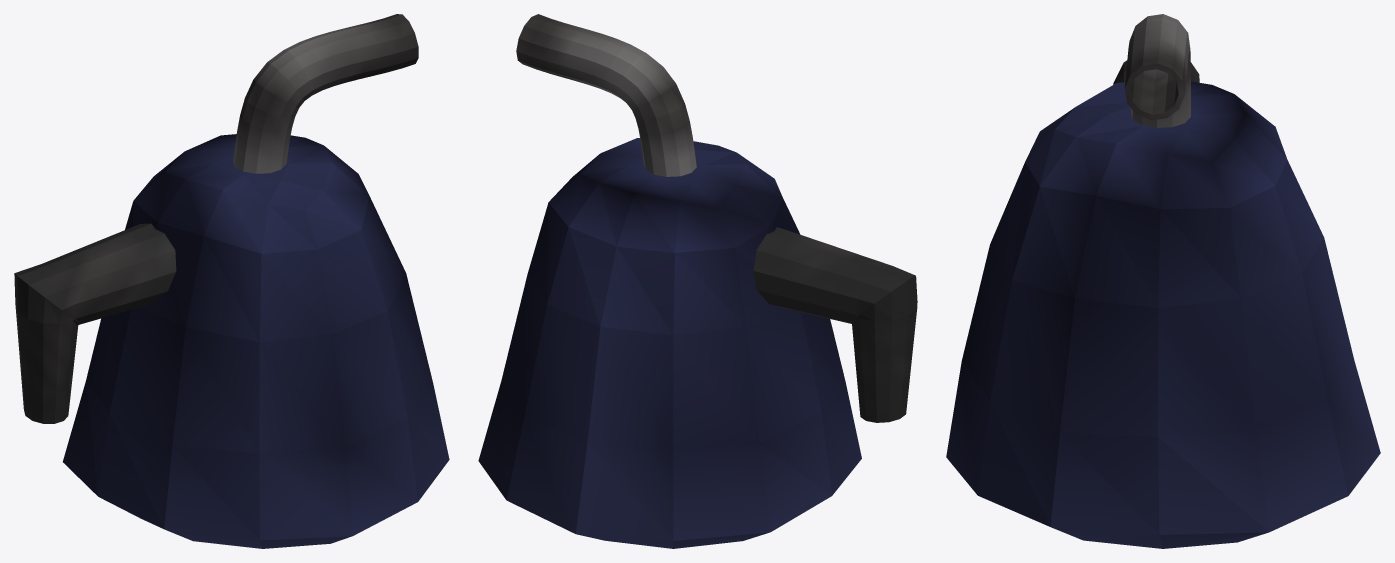
File: Chalumeau(1).fbx
3 renders of one model, left to right at view 1: azimuth 30°, elevation 25°; view 2: azimuth 150°, elevation 25°; view 3: azimuth 270°, elevation 25°, orthographic. The views are drawn at different scales.
Parts seen in each view (by area): view 1: Cylindre, Tube 1, Tube; view 2: Cylindre, Tube 1, Tube; view 3: Cylindre, Tube.
Boxes of the visible parts, x1,y1,x2,y2 form: Cylindre: (63,134,449,548); Tube 1: (14,223,176,423); Tube: (233,14,418,173); Cylindre: (478,138,861,548); Tube 1: (753,227,917,422); Tube: (516,14,696,176); Cylindre: (946,81,1380,548); Tube: (1124,14,1190,127).
Size of the model in its own units: 0.1162 by 0.1231 by 0.0967.
